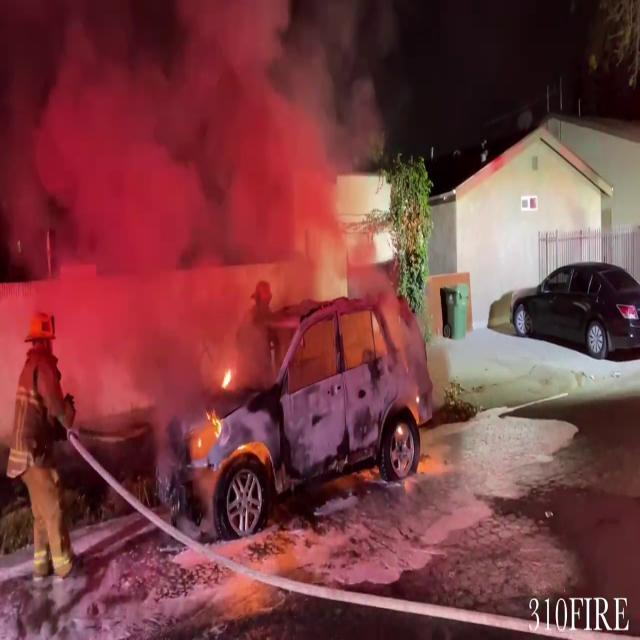Smoke: (0, 0, 381, 453)
